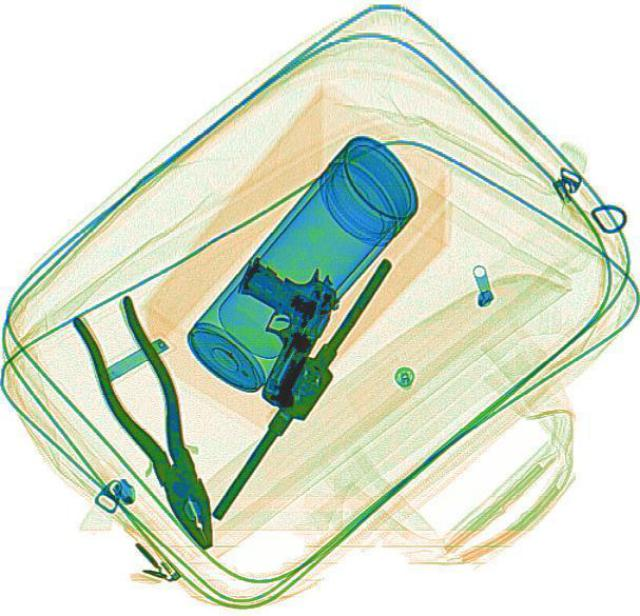Gun: (194, 246, 346, 408)
Pliers: (66, 292, 242, 559)
